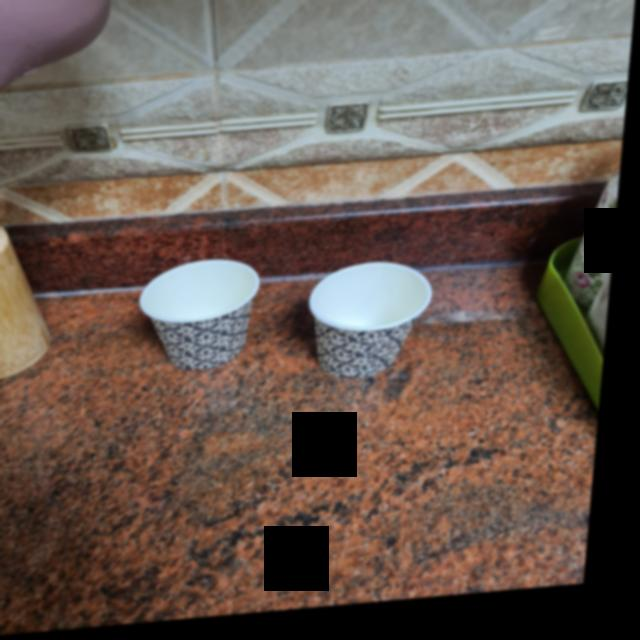cups: (307, 267, 441, 392), (145, 256, 271, 383)
